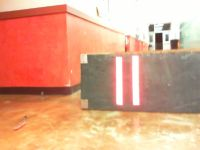switch: (115, 56, 124, 106), (131, 55, 140, 105)
